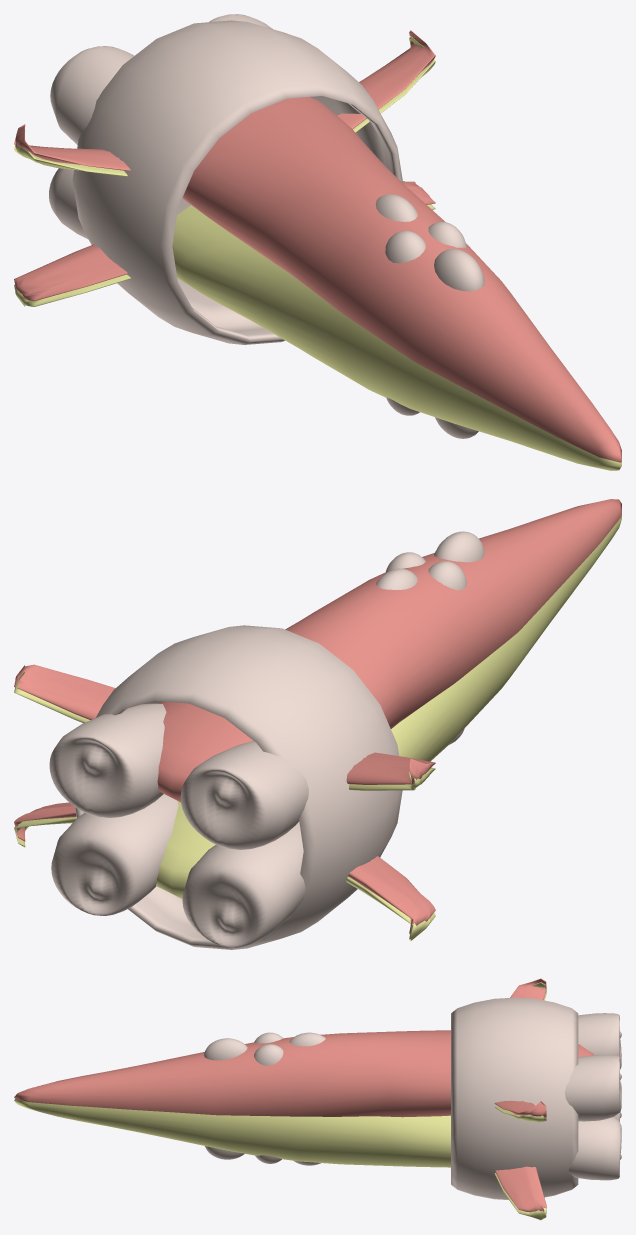
The model's file is enemy02.fbx.
The picture shows the model from 3 angles, top to bottom: view 1: azimuth 30°, elevation 25°; view 2: azimuth 150°, elevation 25°; view 3: azimuth 270°, elevation 25°; orthographic projection. The views are drawn at different scales.
Parts seen in each view (by area): view 1: pSphere1, pSphere19, pSphere13, pSphere7, pSphere6, pSphere17, pSphere24, pSphere11, pSphere10, pSphere26, pSphere27, pSphere18 (+1 smaller); view 2: pSphere19, pSphere1, pSphere13, pSphere11, pSphere12, pSphere6, pSphere5, pSphere7, pSphere17, pSphere24, pSphere18, pSphere10 (+2 smaller); view 3: pSphere1, pSphere19, pSphere13, pSphere5, pSphere12, pSphere6, pSphere17, pSphere7, pSphere24, pSphere25, pSphere27, pSphere10.
Boxes of the visible parts, x1,y1,x2,y2 form: pSphere1: (182, 97, 621, 462); pSphere19: (72, 20, 403, 344); pSphere13: (172, 205, 621, 470); pSphere7: (14, 30, 435, 171); pSphere6: (50, 46, 134, 144); pSphere17: (14, 181, 435, 301); pSphere24: (434, 249, 484, 291); pSphere11: (49, 168, 88, 239); pSphere10: (14, 36, 435, 176); pSphere26: (385, 230, 425, 263); pSphere27: (376, 194, 417, 221); pSphere18: (14, 204, 435, 306); pSphere19: (75, 625, 402, 949); pSphere1: (157, 499, 621, 802); pSphere13: (156, 514, 621, 899); pSphere11: (182, 821, 305, 947); pSphere12: (51, 794, 178, 915); pSphere6: (180, 741, 308, 849); pSphere5: (49, 703, 166, 817); pSphere7: (14, 664, 435, 784); pSphere17: (14, 802, 435, 934); pSphere24: (434, 531, 484, 562); pSphere18: (14, 817, 435, 941); pSphere10: (14, 671, 435, 790); pSphere1: (14, 1030, 594, 1117); pSphere19: (451, 997, 578, 1199); pSphere13: (14, 1099, 450, 1167); pSphere5: (564, 1055, 621, 1121); pSphere12: (568, 1117, 621, 1180); pSphere6: (578, 1013, 621, 1069); pSphere17: (495, 1166, 546, 1212); pSphere7: (494, 978, 546, 1117); pSphere24: (204, 1038, 247, 1060); pSphere25: (254, 1044, 283, 1065); pSphere27: (289, 1032, 325, 1046); pSphere10: (495, 982, 546, 1122).
Bounding box in the file's own units: 104 × 69.55 × 207.
